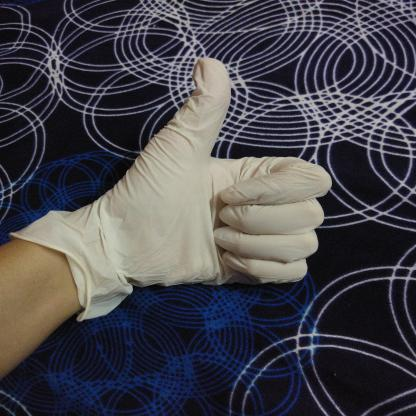gloved_hand: (8, 53, 335, 331)
